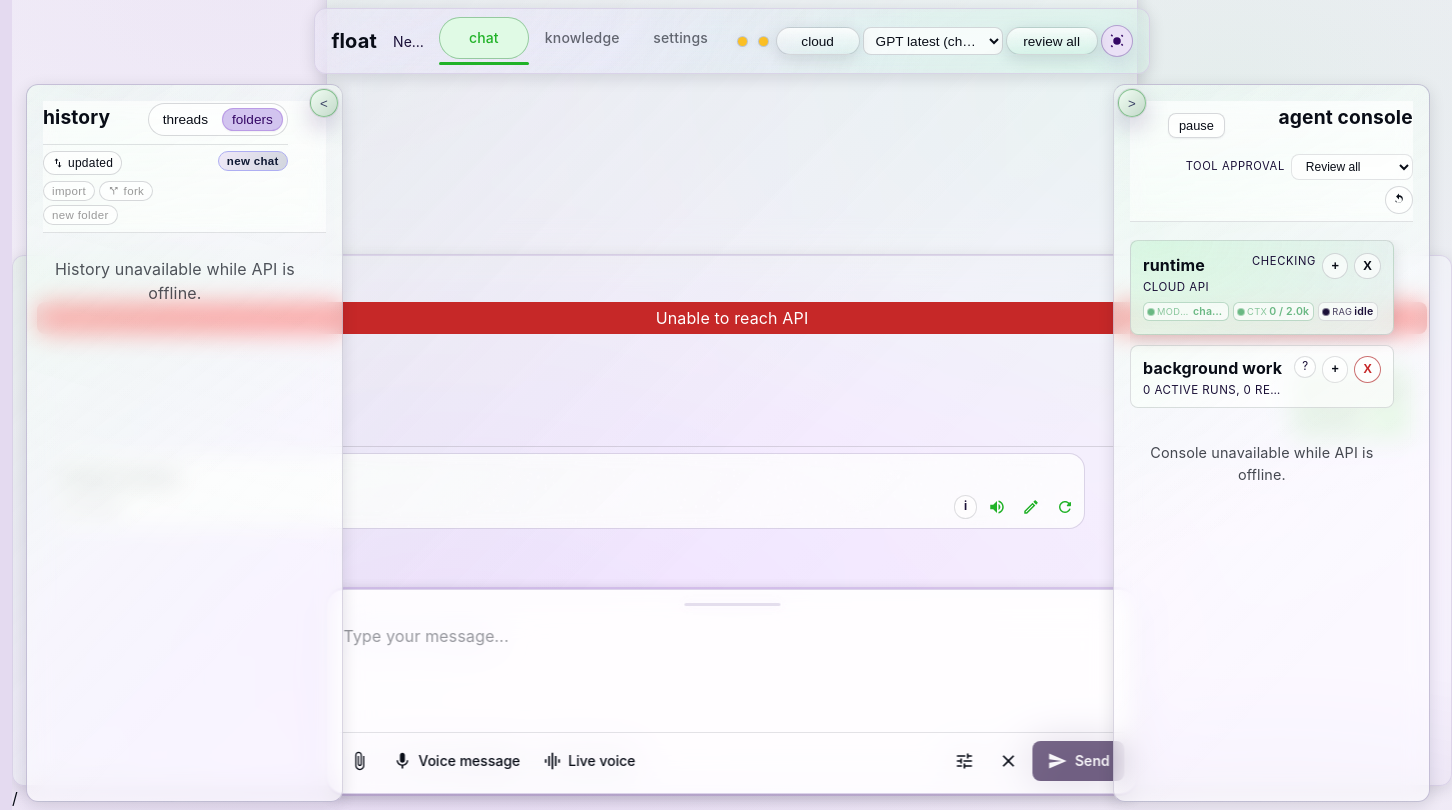
Test: Chat › keeps the previous answer and explains an unsafe regenerate replacement
(page scrolled)
Click the button named "Regenerate response" at (1065, 507), box [1051,493,1079,521]
(page scrolled)
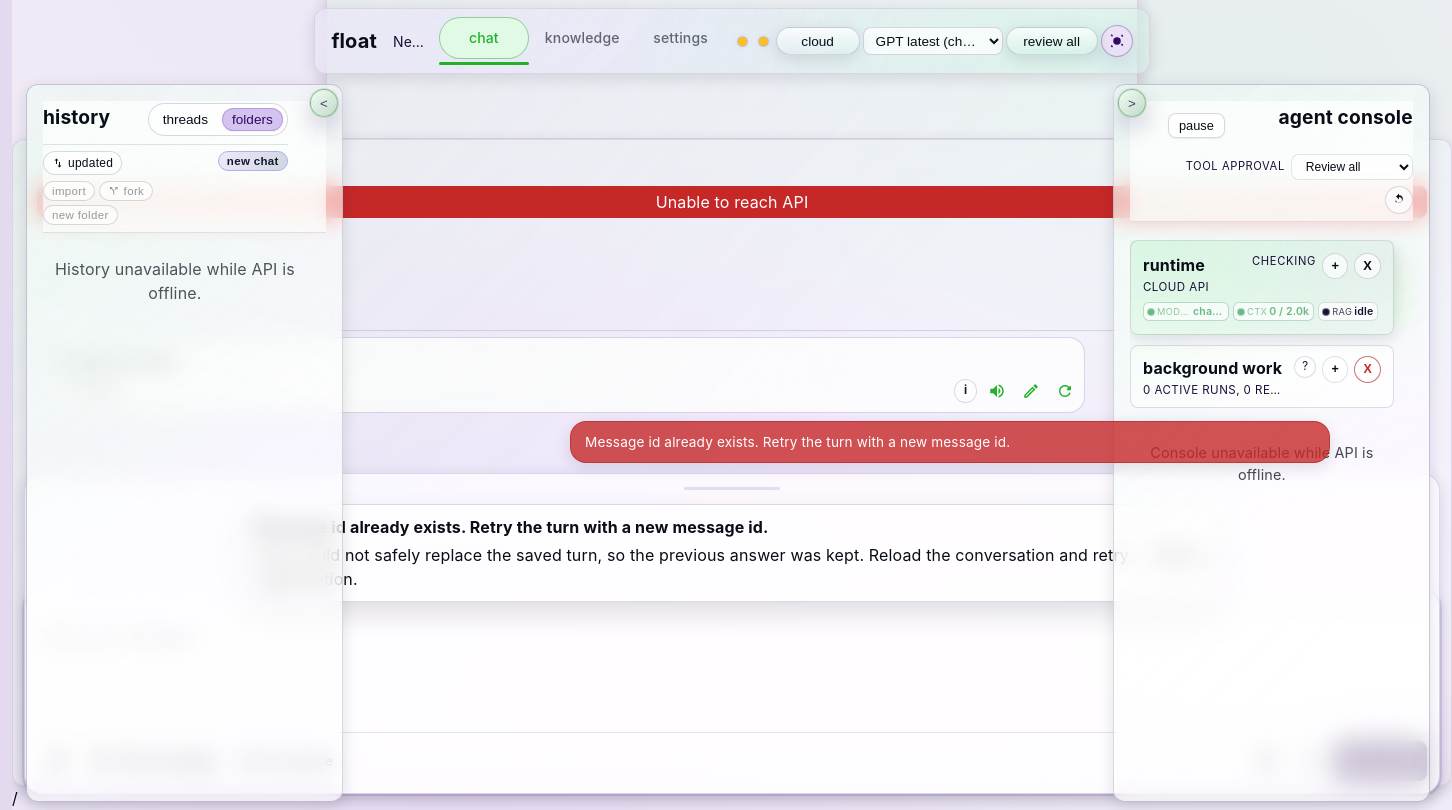
Result: the text "previous answer was kept" is shown at [255,545,1129,589]
